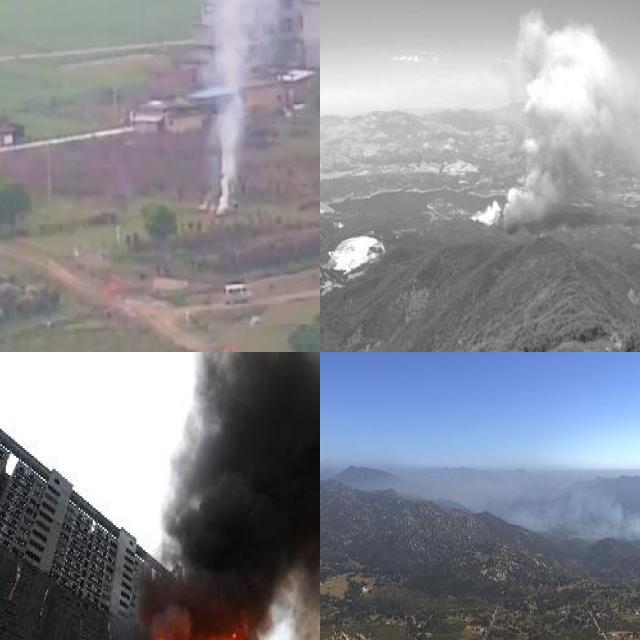smoke: (136, 352, 320, 631), (464, 0, 640, 231), (155, 0, 316, 216), (476, 479, 640, 547)
